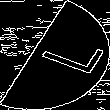L_NW: (16, 30, 94, 80)
